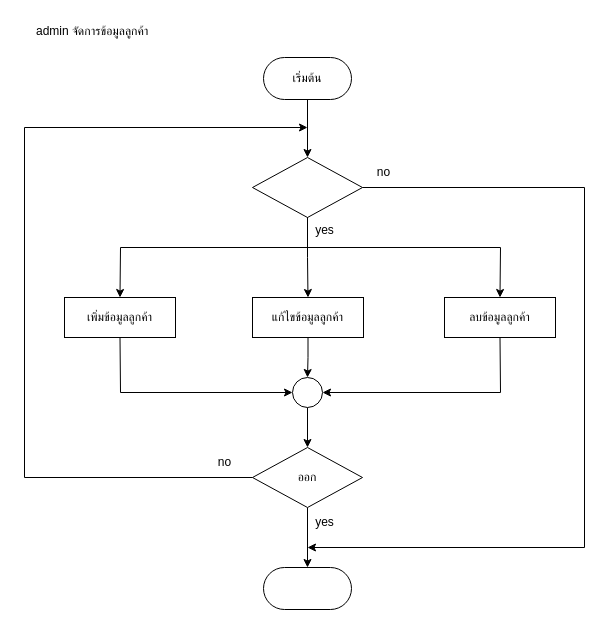
The diagram is 610 pixels wide and 627 high, and some of its shapes have lost their labels. The centre of each missing label's shape, as x and y in pixels:
"จบ" belongs at point (307, 588).
"จัดการข้อมูลลูกค้า" belongs at point (307, 187).
